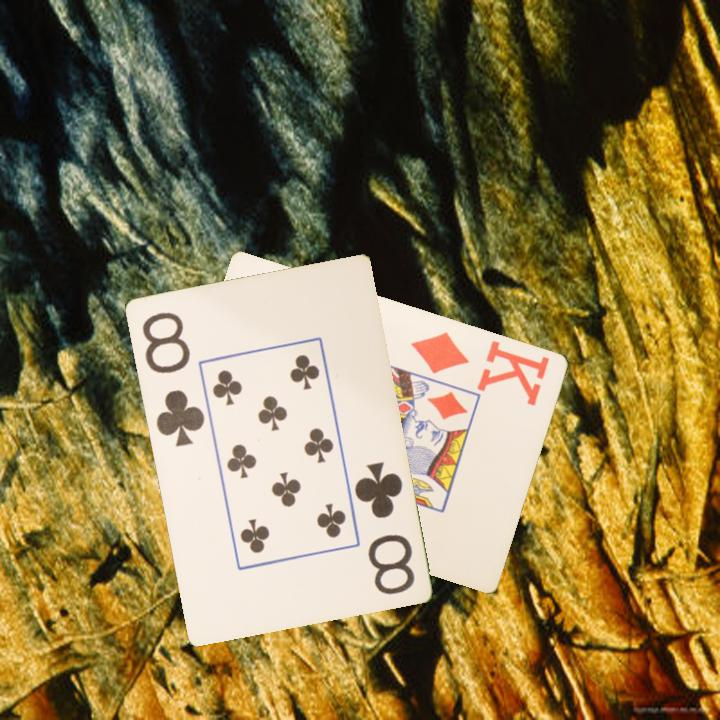8c: (138, 308, 207, 450), (350, 458, 418, 597)
Kd: (408, 327, 553, 409)
